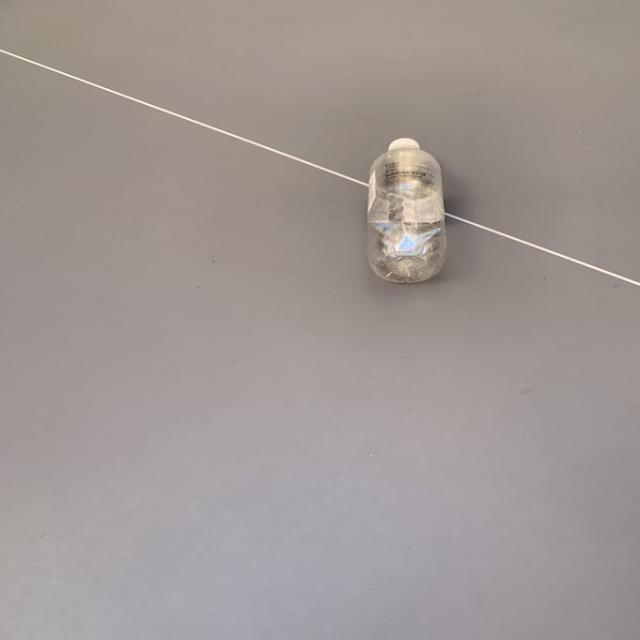Waste: (368, 138, 448, 283)
